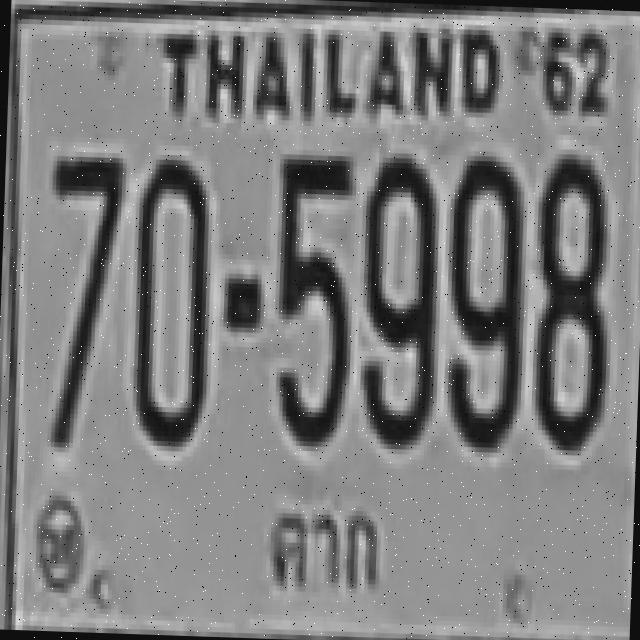0: (129, 154, 212, 447), (448, 150, 524, 336)
7: (42, 148, 125, 427), (44, 150, 124, 395), (45, 151, 125, 342)
8: (530, 148, 610, 446)
9: (442, 147, 525, 446), (356, 154, 439, 442)
Tak: (263, 494, 402, 605)
